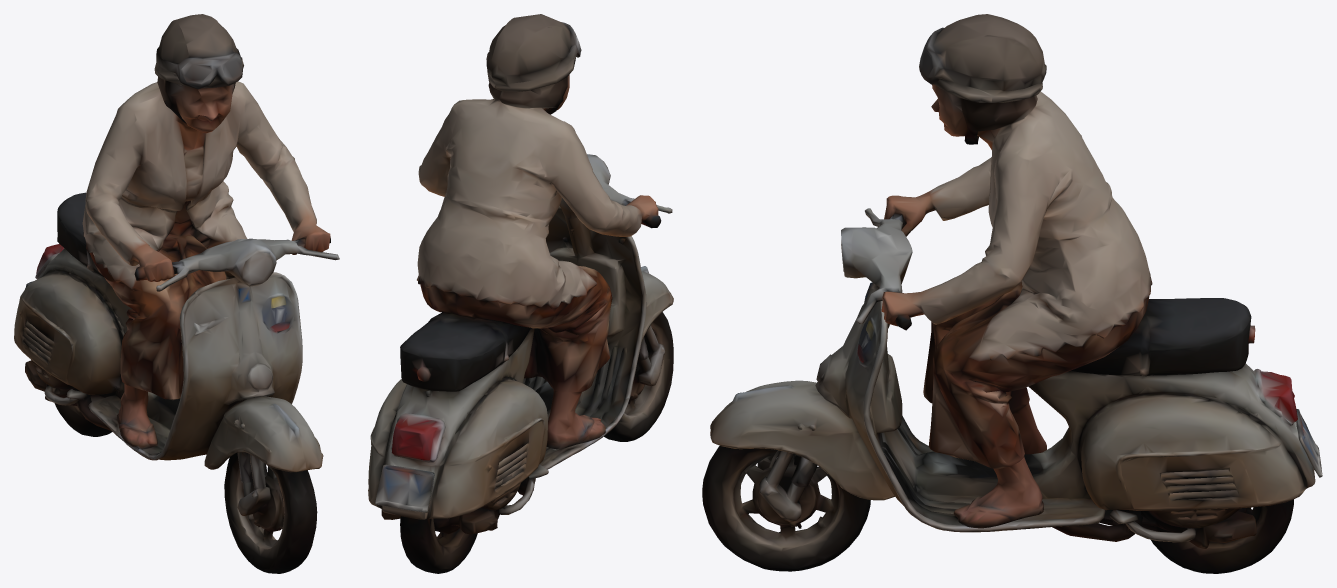
Rendered from rider_vespa.glb.
3 views of the same model, side by side, from view 1: azimuth 30°, elevation 25°; view 2: azimuth 150°, elevation 25°; view 3: azimuth 270°, elevation 25° (orthographic). The views are drawn at different scales.
Visible parts, largest first — view 1: rider_vespa; view 2: rider_vespa; view 3: rider_vespa.
Boxes of the visible parts, x1,y1,x2,y2 form: rider_vespa: (14, 14, 339, 573); rider_vespa: (368, 14, 673, 573); rider_vespa: (702, 14, 1322, 573).
Size of the model in its own units: 0.6902 by 1.55 by 1.56.
